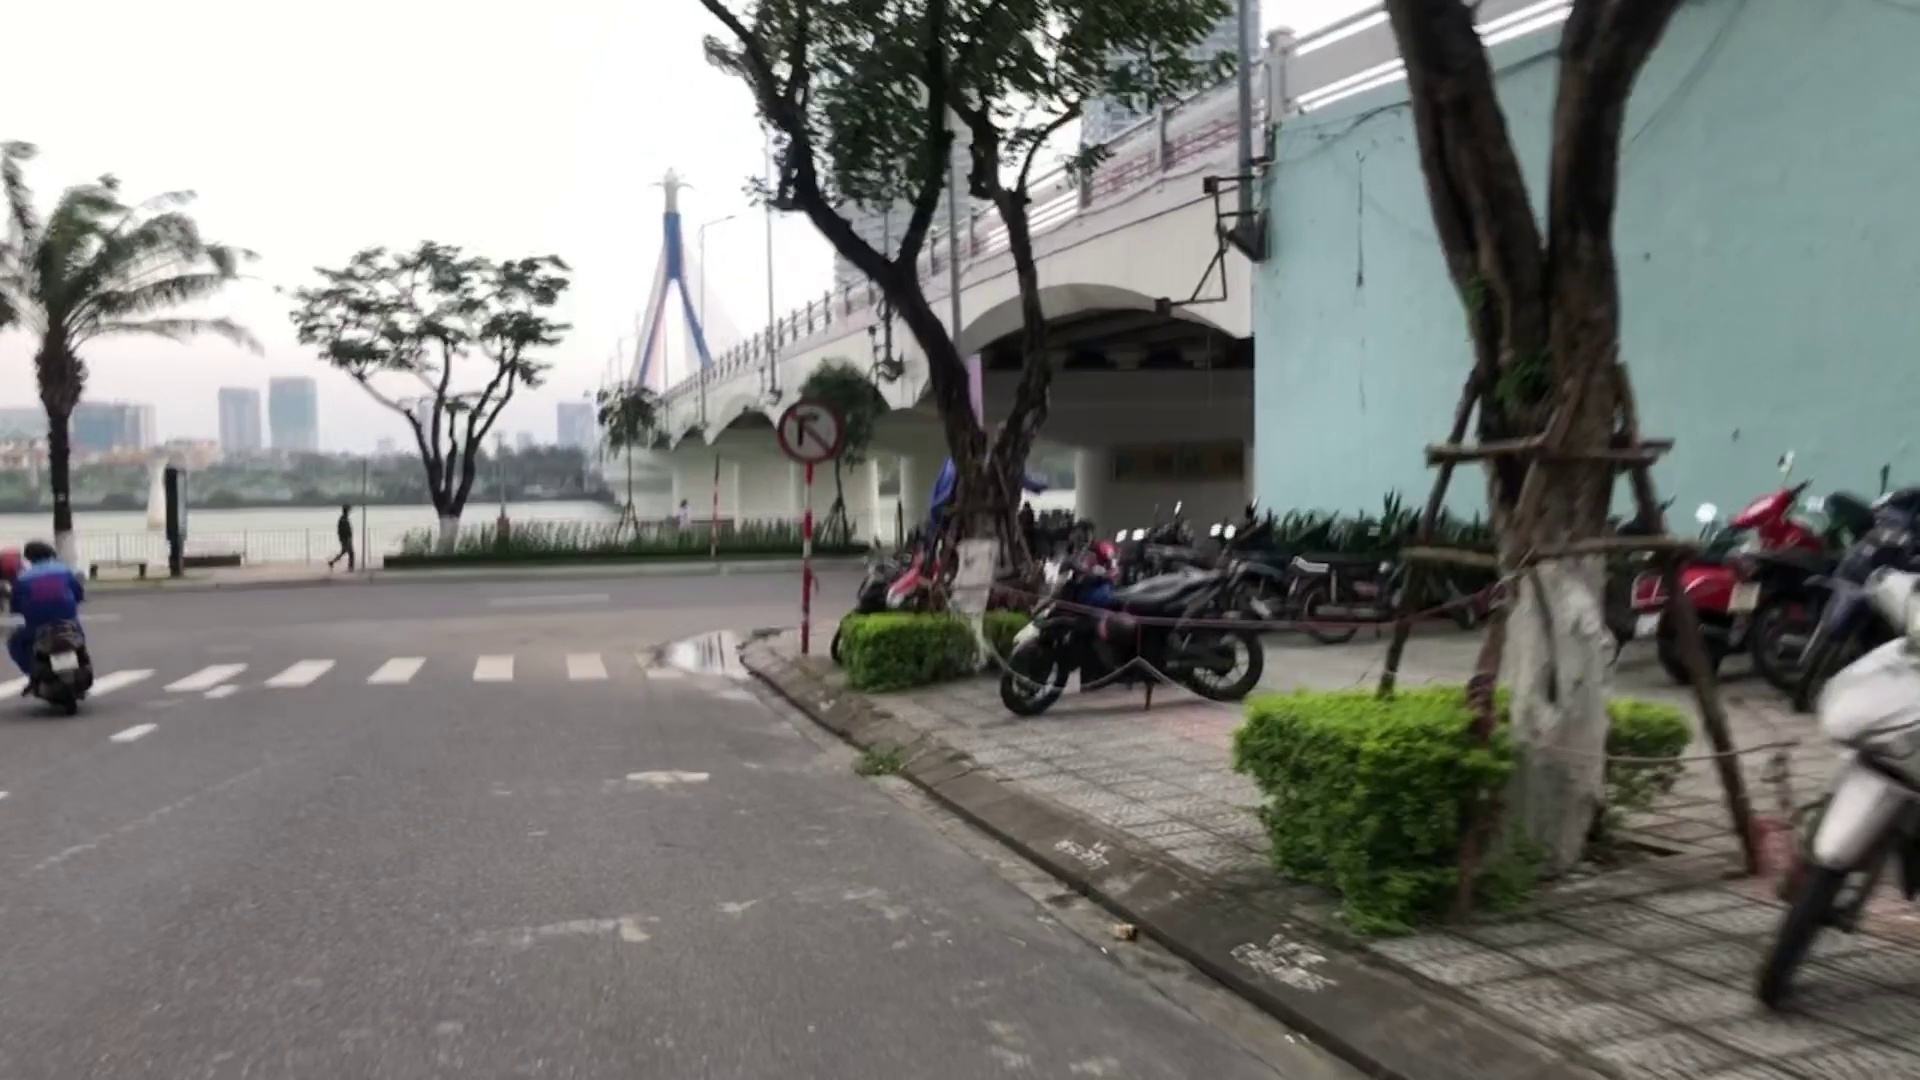Bien khac: (782, 390, 840, 462)
